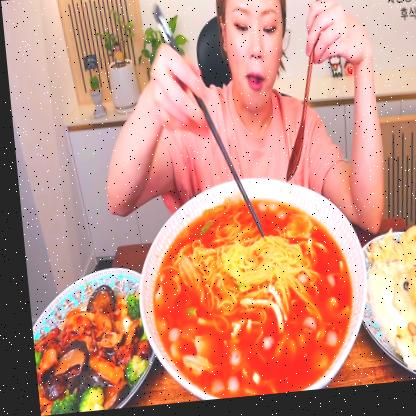streamer: (85, 0, 385, 261)
